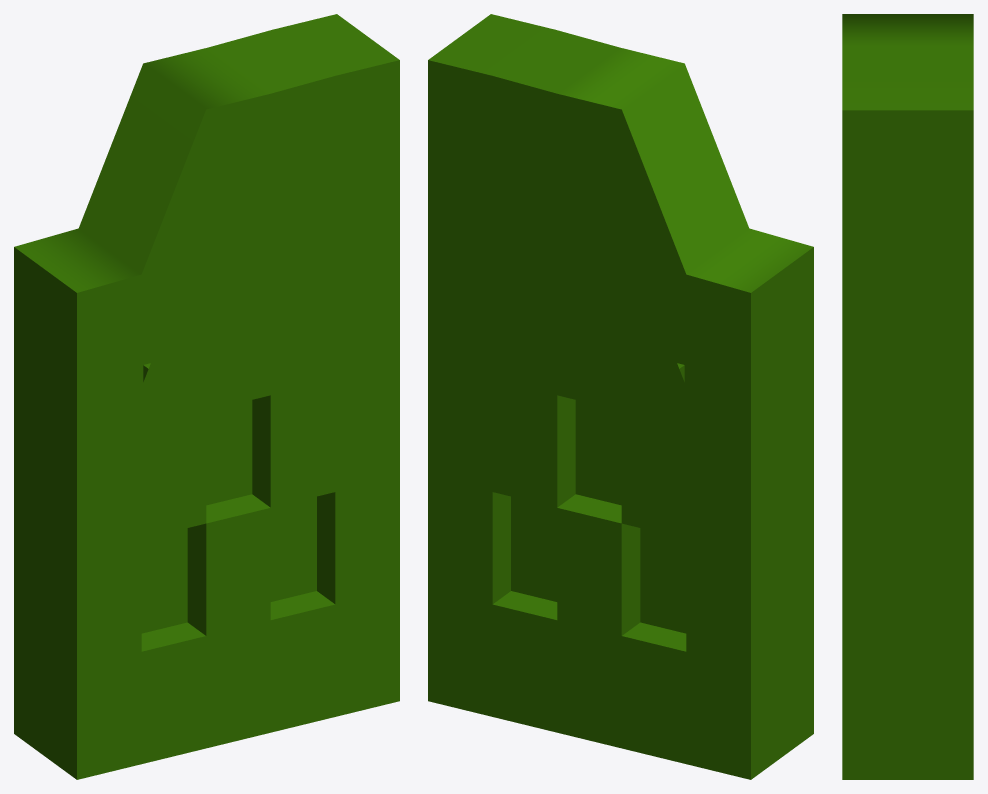
File: Petrol.fbx
3 views of the same model, side by side, from view 1: azimuth 30°, elevation 25°; view 2: azimuth 150°, elevation 25°; view 3: azimuth 270°, elevation 25° (orthographic). The views are drawn at different scales.
Parts seen in each view (by area): view 1: pCube1; view 2: pCube1; view 3: pCube1.
Boxes of the visible parts, x1,y1,x2,y2 form: pCube1: [14, 14, 399, 779]; pCube1: [428, 14, 813, 779]; pCube1: [842, 14, 973, 779].
Size of the model in its own units: 4.64 by 8.81 by 1.57.
